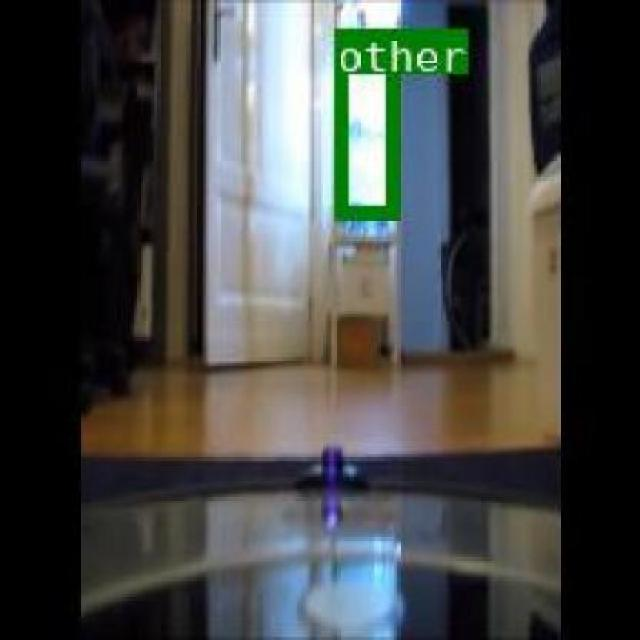other: (332, 28, 397, 216)
